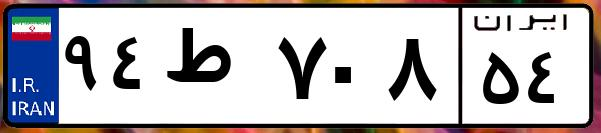0: (330, 28, 385, 110)
4: (525, 38, 570, 115), (110, 28, 158, 98)
5: (475, 38, 525, 113)
7: (270, 28, 330, 110)
8: (385, 28, 445, 110)
9: (57, 26, 110, 100)
ط: (158, 20, 270, 120)
